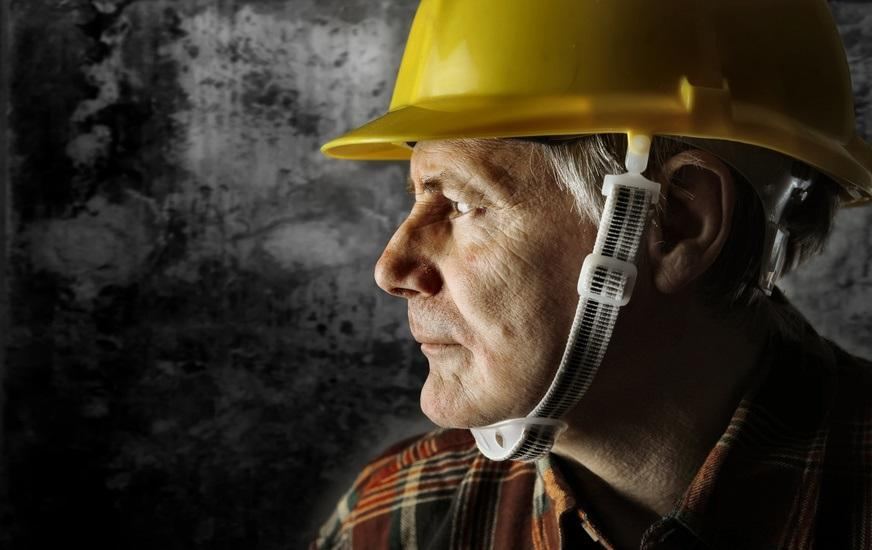helmet: (321, 1, 872, 206)
